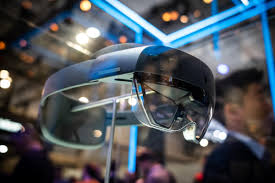hololens: (41, 43, 216, 152)
